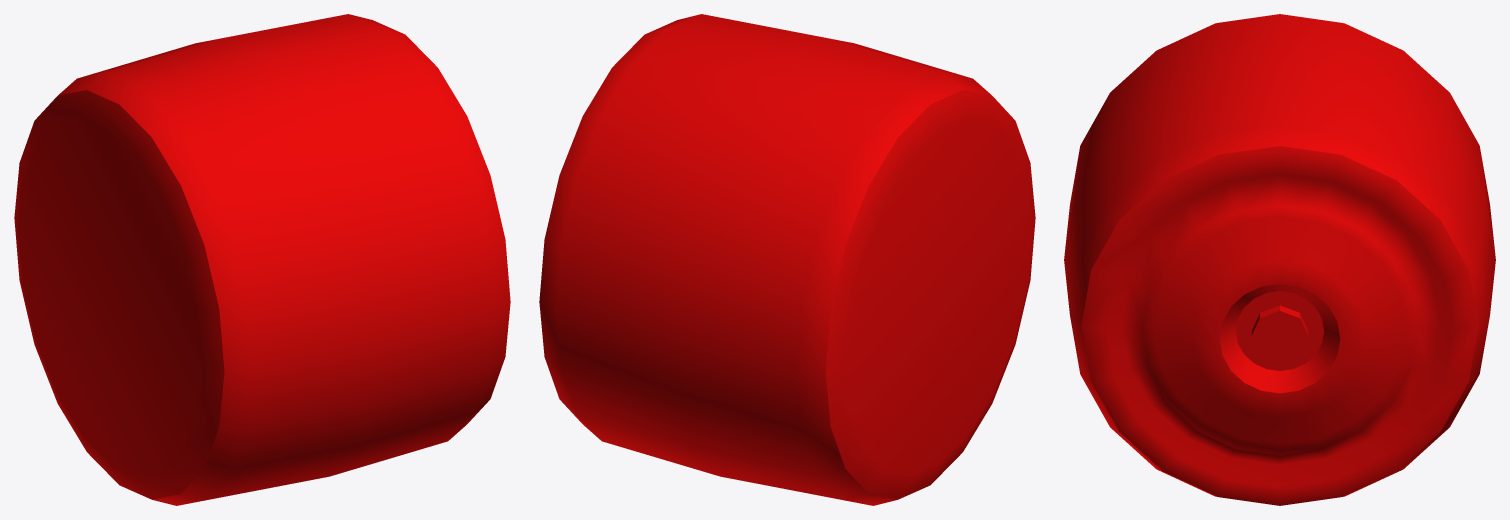
File: Wheel_bus.fbx
3 views of the same model, side by side, from view 1: azimuth 30°, elevation 25°; view 2: azimuth 150°, elevation 25°; view 3: azimuth 270°, elevation 25° (orthographic). The views are drawn at different scales.
Visible parts, largest first — view 1: pCylinder6; view 2: pCylinder6; view 3: pCylinder6.
Boxes of the visible parts, left/top/right/bottom form: pCylinder6: left=14, top=14, right=510, bottom=505; pCylinder6: left=539, top=14, right=1035, bottom=505; pCylinder6: left=1064, top=14, right=1495, bottom=505.
Bounding box in the file's own units: 2.21 × 2.71 × 2.71.
